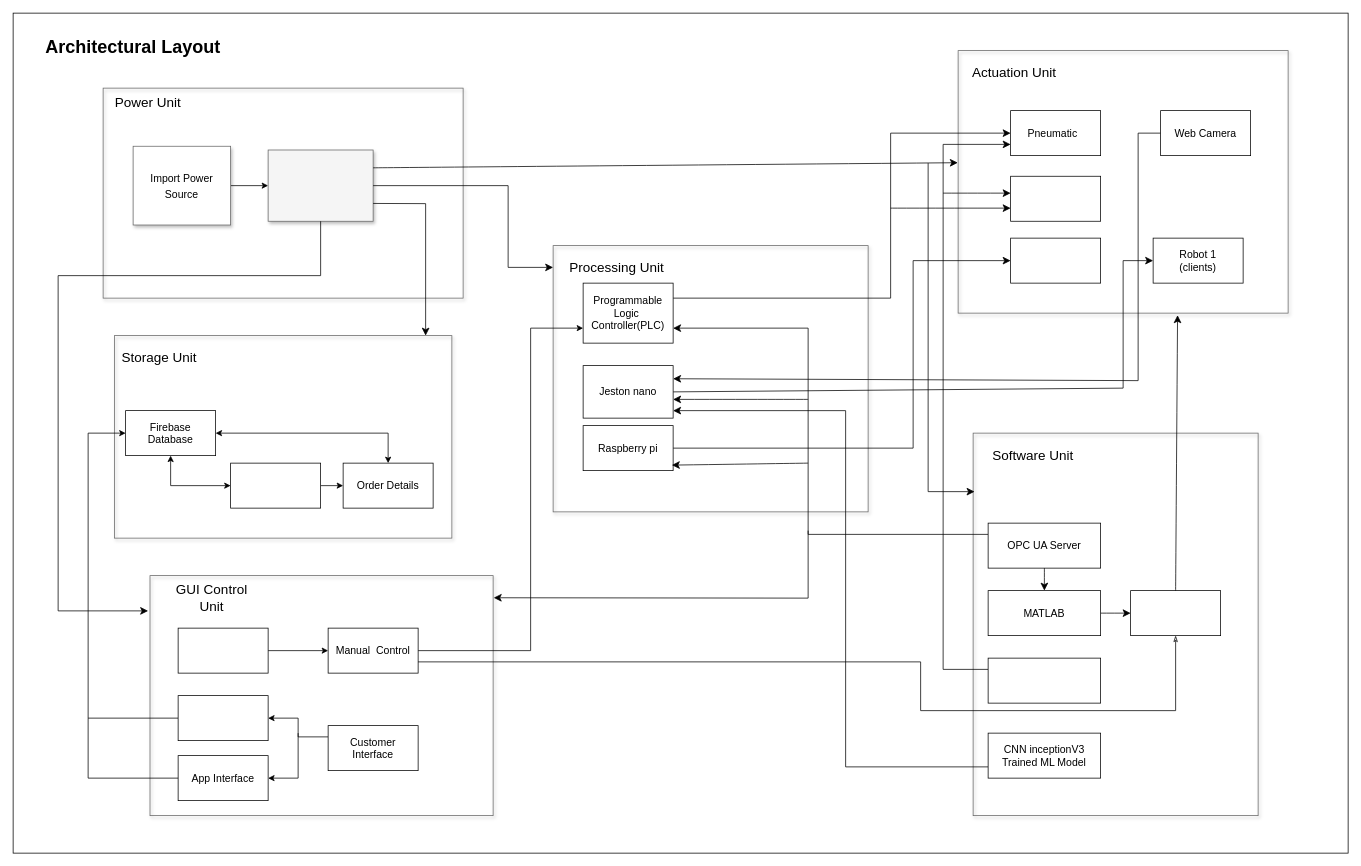
Some shapes in this 1361 by 866 pixel diagram are drawn without their labels. The centre of each missing label's shape, as x and y in pixels:
Authentication: point 275,485
Conveyor Motion: point 1055,198
Digital Twinning: point 1175,613
Operator interface: point 222,650
Robot 2 &3 (clients): point 1055,260
Supply Power: point 321,186
Twin CAT: point 1044,680
Web interface: point 222,718
